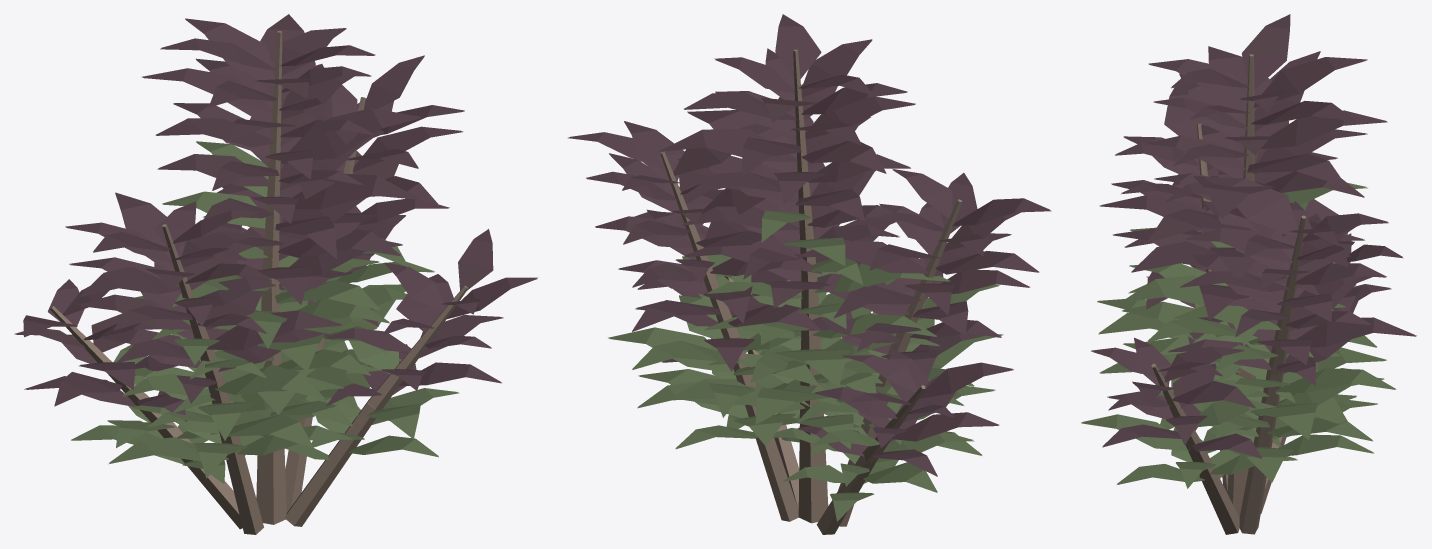
The model's file is bush-2.glb.
3 views of the same model, side by side, from view 1: azimuth 30°, elevation 25°; view 2: azimuth 150°, elevation 25°; view 3: azimuth 270°, elevation 25° (orthographic). The views are drawn at different scales.
Parts seen in each view (by area): view 1: Bush 2 - dense bronzeleaf; view 2: Bush 2 - dense bronzeleaf; view 3: Bush 2 - dense bronzeleaf.
Boxes of the visible parts, <box> form: Bush 2 - dense bronzeleaf: <box>14,14,537,534</box>; Bush 2 - dense bronzeleaf: <box>568,14,1051,534</box>; Bush 2 - dense bronzeleaf: <box>1081,14,1416,534</box>.
Bounding box in the file's own units: 1.54 × 1.61 × 1.03.
